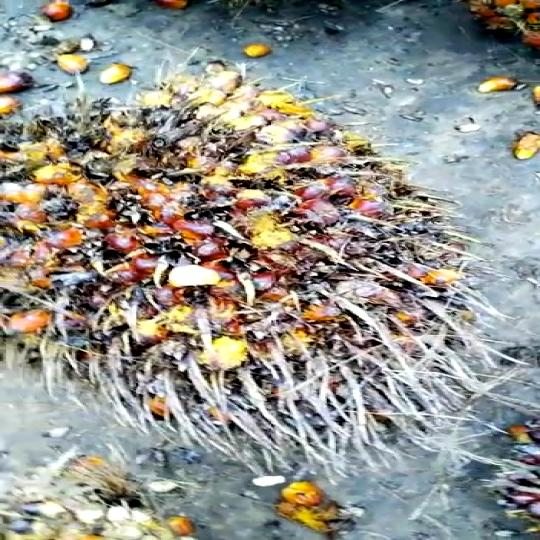terlalu masak: (0, 79, 494, 456)
